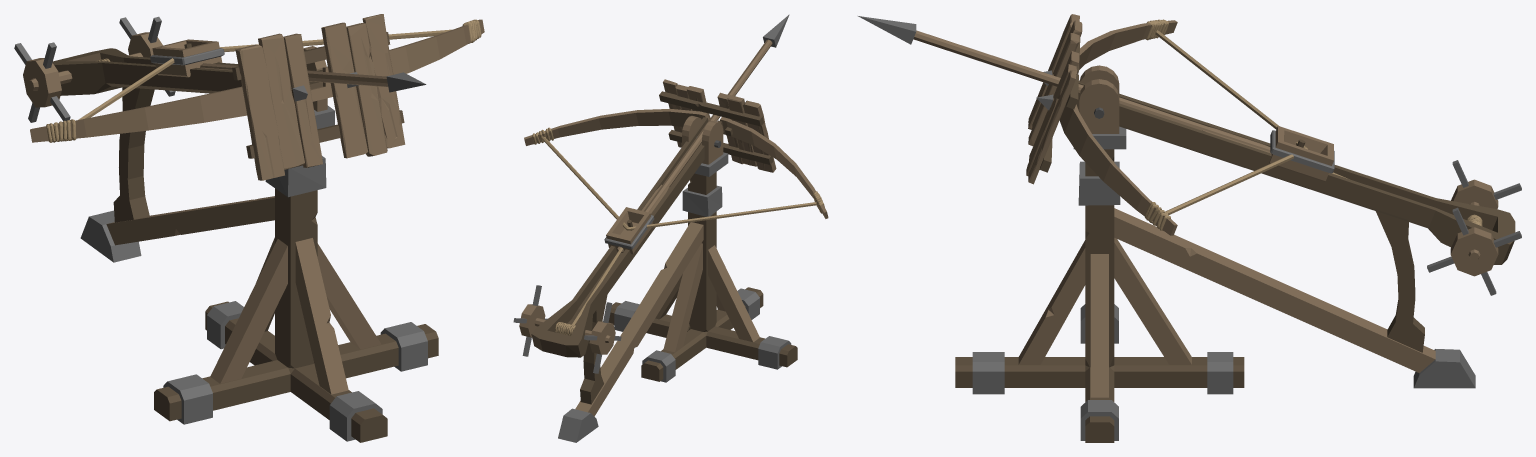
Rendered from siege_ballista.FBX.
3 renders of one model, left to right at view 1: azimuth 30°, elevation 25°; view 2: azimuth 150°, elevation 25°; view 3: azimuth 270°, elevation 25°, orthographic. The views are drawn at different scales.
Parts seen in each view (by area): view 1: siege_ballista; view 2: siege_ballista; view 3: siege_ballista.
Part boxes in pixels (<box>): siege_ballista: <box>14,14,484,442</box>; siege_ballista: <box>513,14,828,442</box>; siege_ballista: <box>858,14,1521,442</box>.
Bounding box in the file's own units: 2.79 × 2.34 × 3.82.
